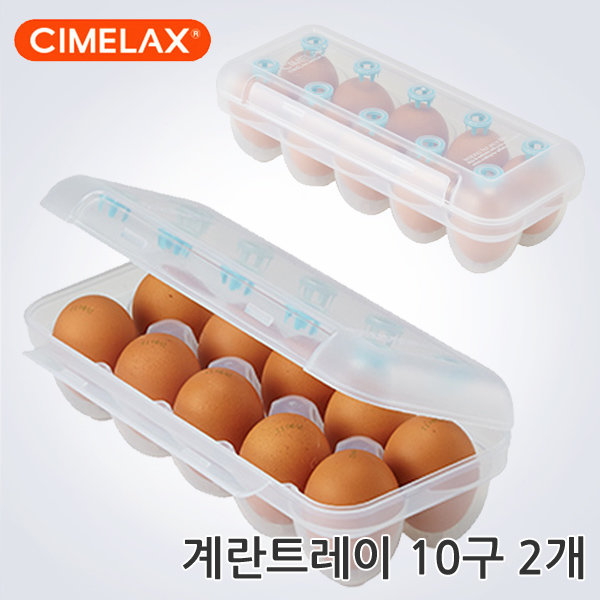egg: (57, 267, 479, 514)
